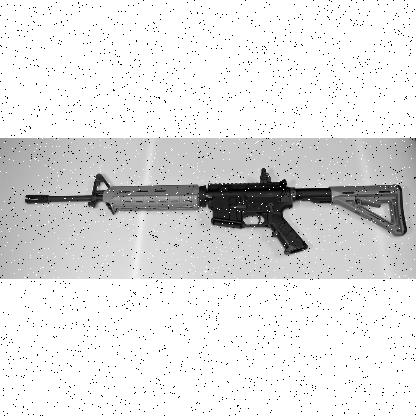gun: (24, 172, 404, 254)
